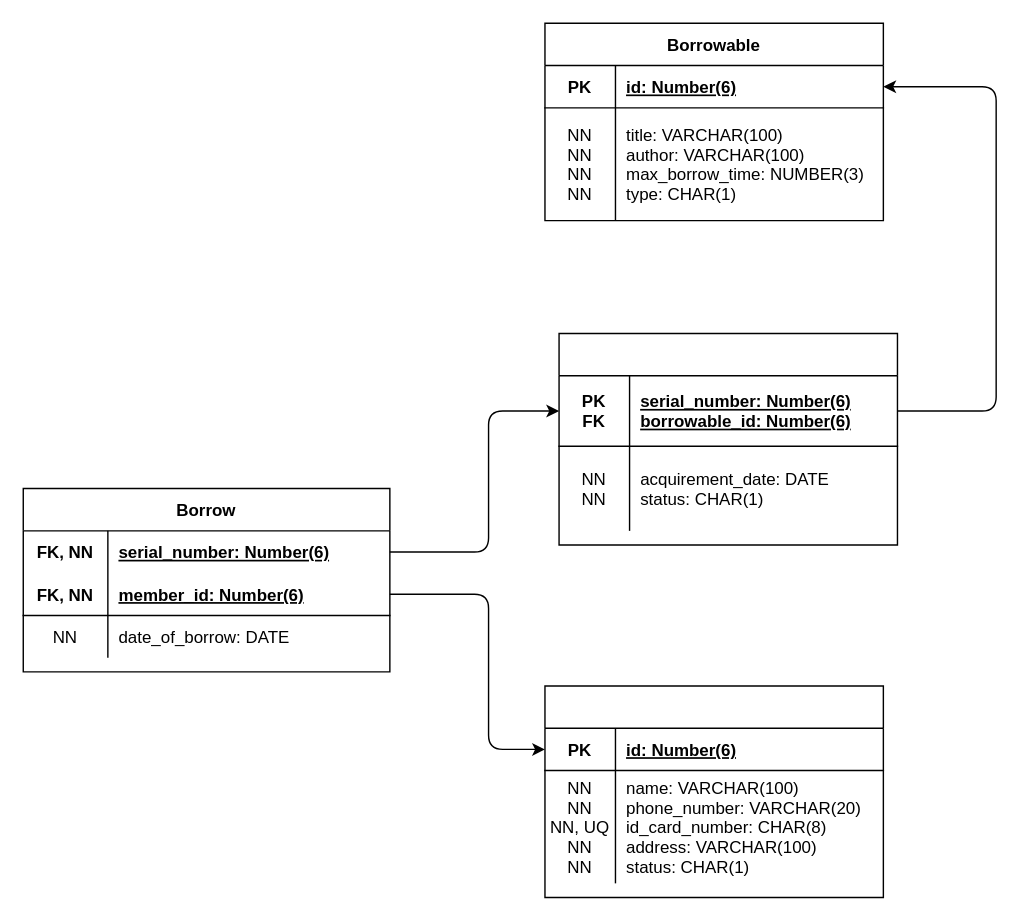
Some shapes in this 1019 by 921 pixel diagram are drawn without their labels. The shapes that lost their labels are listed below. From the top down, each one's box as (x1, y1, x2, y2) in pixels, then its label:
(558, 332, 897, 545): BorrowableItem
(544, 685, 883, 897): Member
